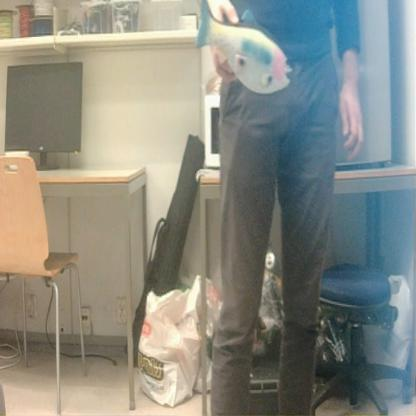rubberfish: (188, 0, 296, 103)
